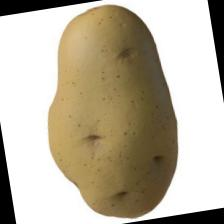potato: (27, 0, 191, 224)
